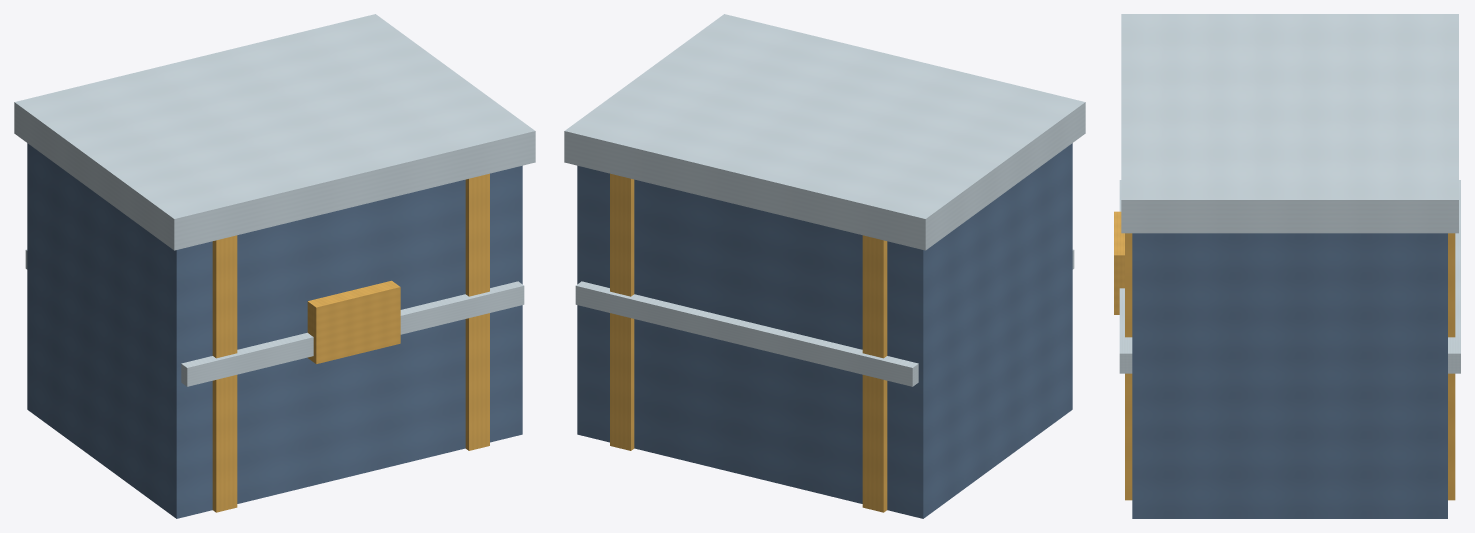
The model's file is atlas100-polar-util02.glb.
3 views of the same model, side by side, from view 1: azimuth 30°, elevation 25°; view 2: azimuth 150°, elevation 25°; view 3: azimuth 270°, elevation 25° (orthographic). The views are drawn at different scales.
Parts seen in each view (by area): view 1: atlas100-polar-util02:part-000, atlas100-polar-util02:part-005, atlas100-polar-util02:part-001, atlas100-polar-util02:part-004, atlas100-polar-util02:part-002, atlas100-polar-util02:part-006; view 2: atlas100-polar-util02:part-000, atlas100-polar-util02:part-005, atlas100-polar-util02:part-003, atlas100-polar-util02:part-001, atlas100-polar-util02:part-002; view 3: atlas100-polar-util02:part-000, atlas100-polar-util02:part-005, atlas100-polar-util02:part-002, atlas100-polar-util02:part-003, atlas100-polar-util02:part-006, atlas100-polar-util02:part-004.
Part boxes in pixels (x1,y1,x2,y2): atlas100-polar-util02:part-000: (27, 143, 522, 518); atlas100-polar-util02:part-005: (14, 14, 535, 250); atlas100-polar-util02:part-001: (212, 235, 237, 512); atlas100-polar-util02:part-004: (181, 281, 524, 386); atlas100-polar-util02:part-002: (465, 173, 489, 450); atlas100-polar-util02:part-006: (307, 280, 400, 364); atlas100-polar-util02:part-000: (577, 143, 1072, 518); atlas100-polar-util02:part-005: (564, 14, 1085, 250); atlas100-polar-util02:part-003: (575, 281, 918, 386); atlas100-polar-util02:part-001: (862, 235, 887, 512); atlas100-polar-util02:part-002: (610, 173, 634, 450); atlas100-polar-util02:part-000: (1132, 233, 1447, 518); atlas100-polar-util02:part-005: (1121, 14, 1458, 233); atlas100-polar-util02:part-002: (1125, 233, 1455, 500); atlas100-polar-util02:part-003: (1448, 180, 1460, 373); atlas100-polar-util02:part-006: (1114, 211, 1124, 314); atlas100-polar-util02:part-004: (1119, 180, 1132, 373).
Bounding box in the file's own units: 1.2 × 0.97 × 0.945.
Materials: 3 (3 with a texture image).
